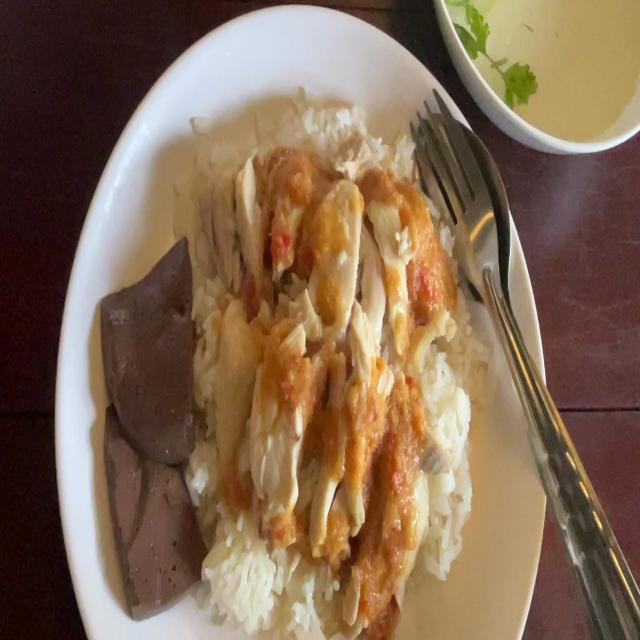boiled_chicken: (225, 160, 431, 580)
boiled_chicken_blood_jelly: (101, 228, 197, 466), (97, 396, 199, 600)
chicken_rice: (98, 97, 488, 635)
